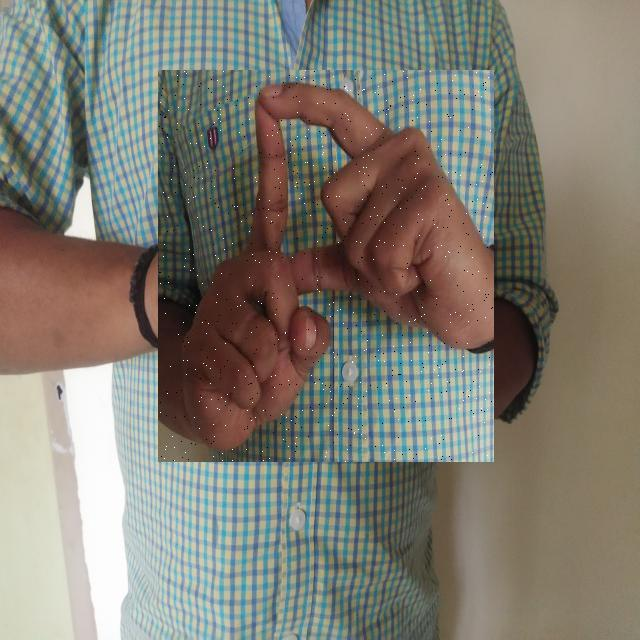D: (158, 70, 494, 462)
